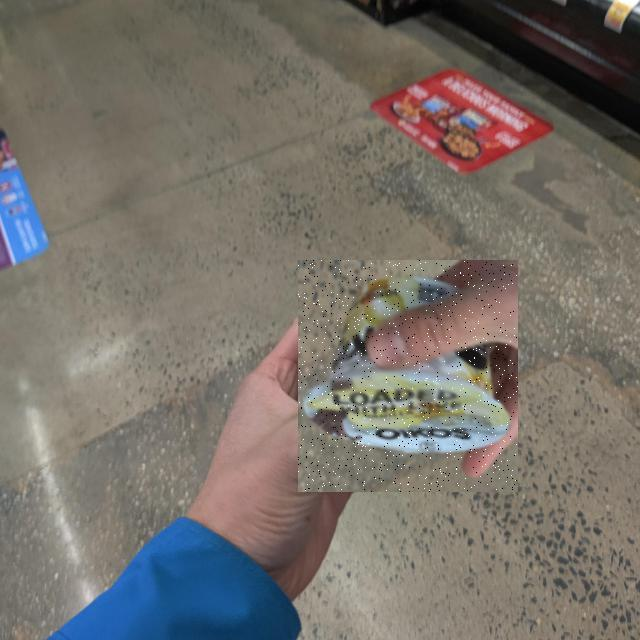Yoghurt: (298, 260, 518, 492)
